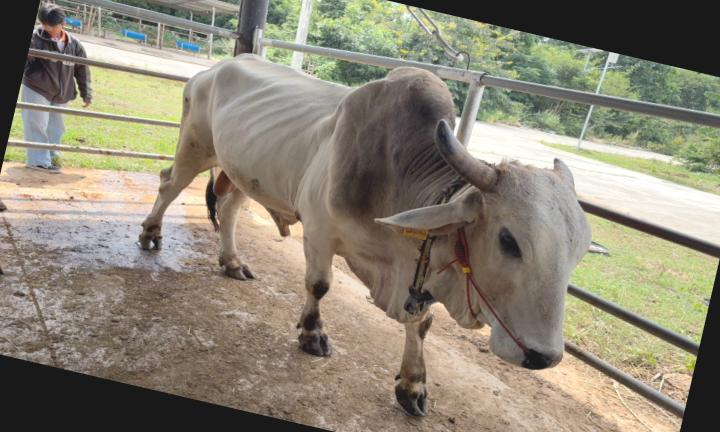Brahman: (139, 54, 590, 415)
